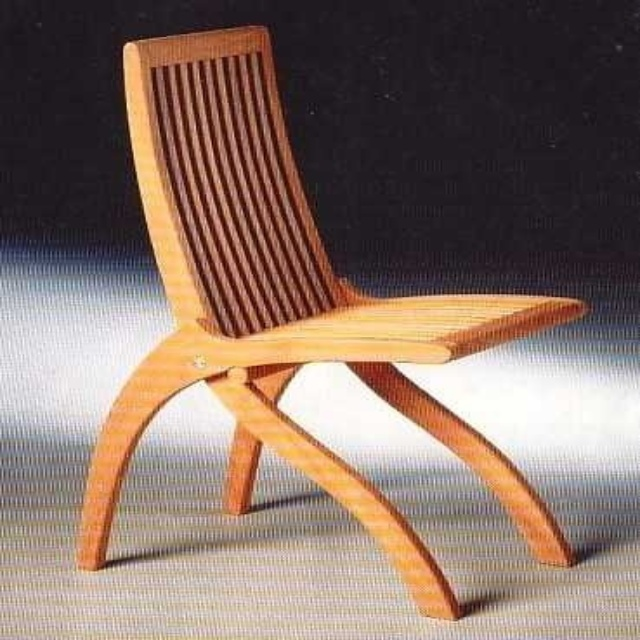obstacle: (78, 26, 584, 617)
